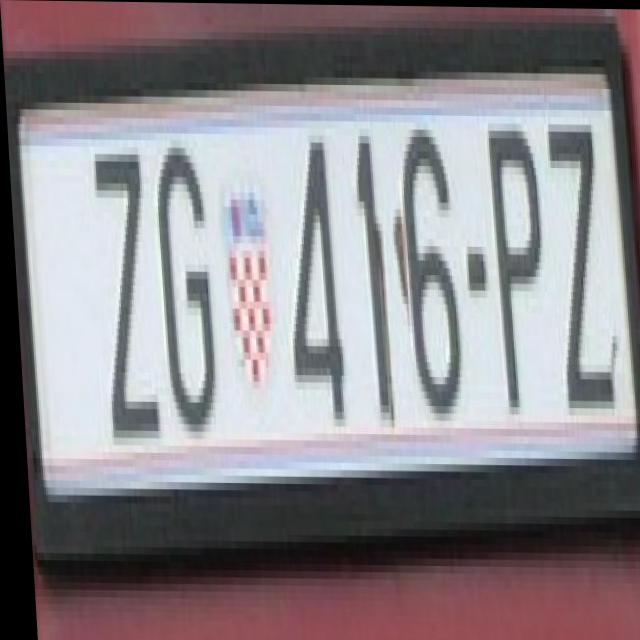1: (344, 120, 393, 419)
4: (272, 120, 344, 418)
6: (394, 121, 466, 420)
G: (148, 140, 217, 424)
P: (478, 121, 538, 406)
Z: (540, 115, 614, 407), (83, 139, 151, 424)
